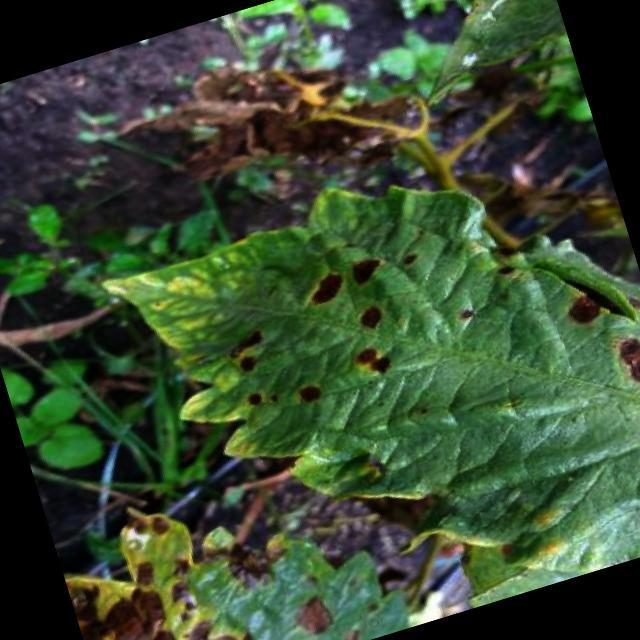Tomato Early blight leaf: (88, 104, 640, 640)
